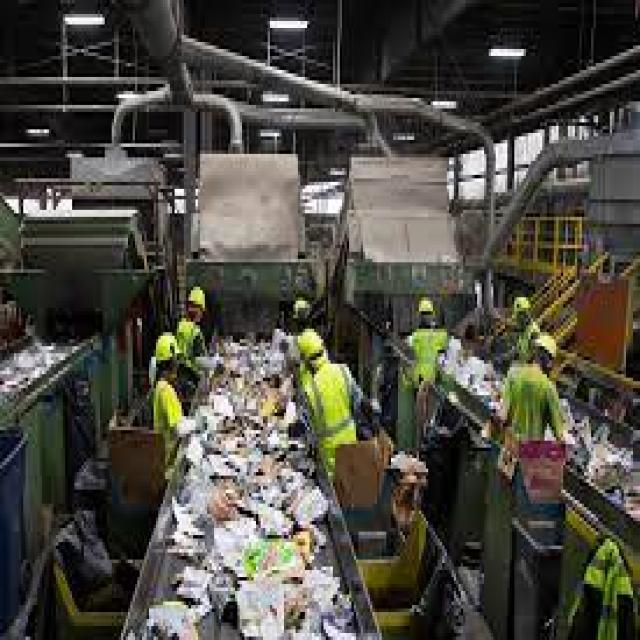paper: (189, 413, 307, 626)
